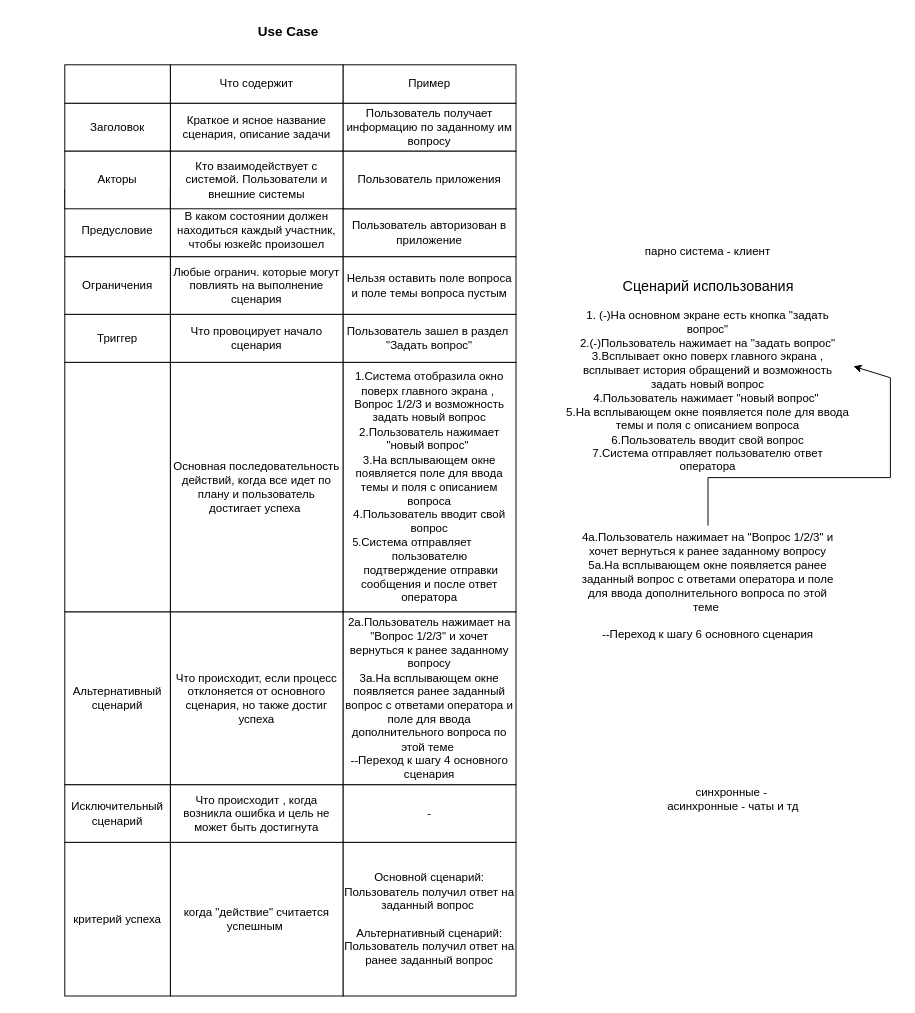
The diagram is 915 pixels wide and 1013 high, and some of its shapes have lost their labels. The shapes that lost their labels are listed below. From the top down, each one's box as (x1, y1, x2, y2) in pixels, then its label:
(64, 64, 170, 103): Название поля
(64, 361, 170, 612): Основной сценарий
